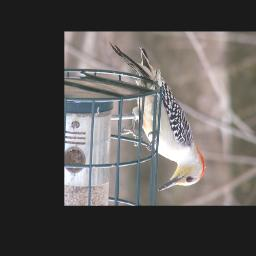Woodpecker: (109, 41, 208, 194)
